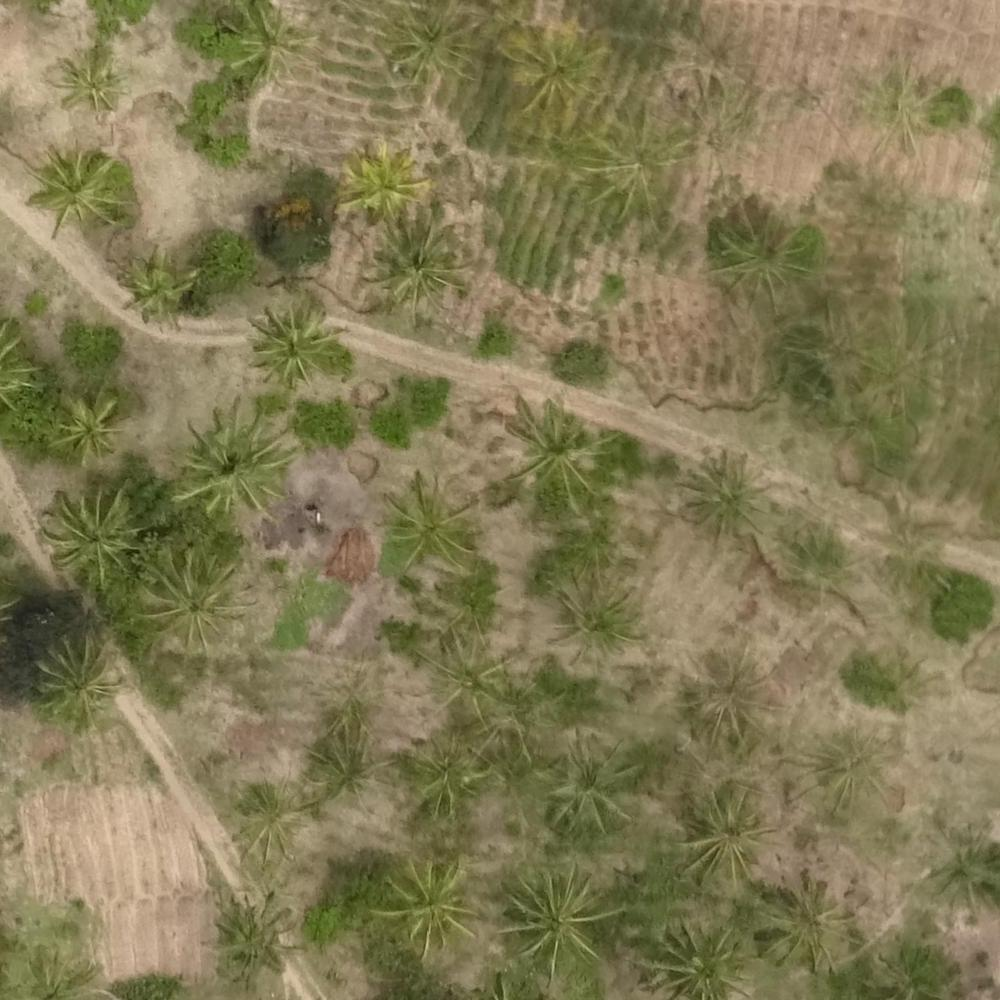Palm: (136, 546, 251, 658), (179, 406, 286, 515), (497, 866, 609, 968), (503, 396, 604, 504), (675, 788, 780, 889), (379, 471, 478, 573), (538, 734, 636, 836), (379, 852, 479, 951), (714, 206, 809, 306), (370, 217, 465, 315), (503, 23, 605, 113), (763, 876, 855, 974), (640, 917, 749, 997), (679, 449, 775, 539), (679, 656, 775, 744), (397, 733, 490, 823), (421, 629, 511, 721), (553, 573, 643, 662), (249, 300, 337, 391), (44, 491, 132, 578), (393, 2, 476, 93), (32, 145, 121, 229), (214, 894, 298, 981), (303, 728, 386, 815), (228, 780, 311, 862), (38, 639, 122, 719), (344, 143, 425, 219), (120, 248, 194, 323), (51, 390, 118, 465), (52, 48, 124, 117)
